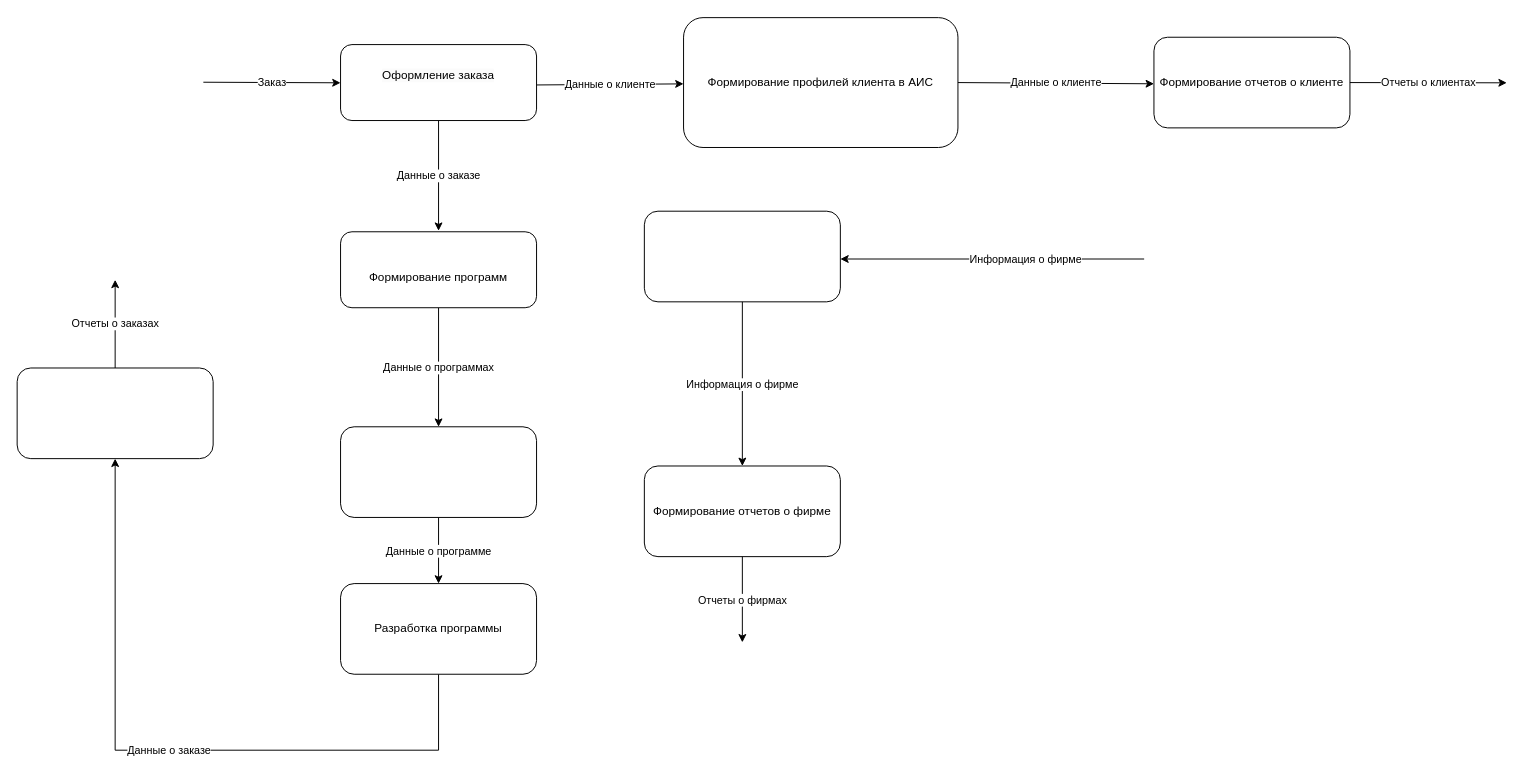
Image size: 1532x775. Some labels were removed from this diagram. The box of each missing label's shape, as (x1, y1, x2, y2) in pixels:
Актуализация данных о фирме (сотрудники, тех оборудование, группы разработки): (643, 210, 840, 302)
Распределение программ по группам разработки: (340, 426, 537, 517)
Формирование отчетов о заказах: (16, 367, 213, 459)
